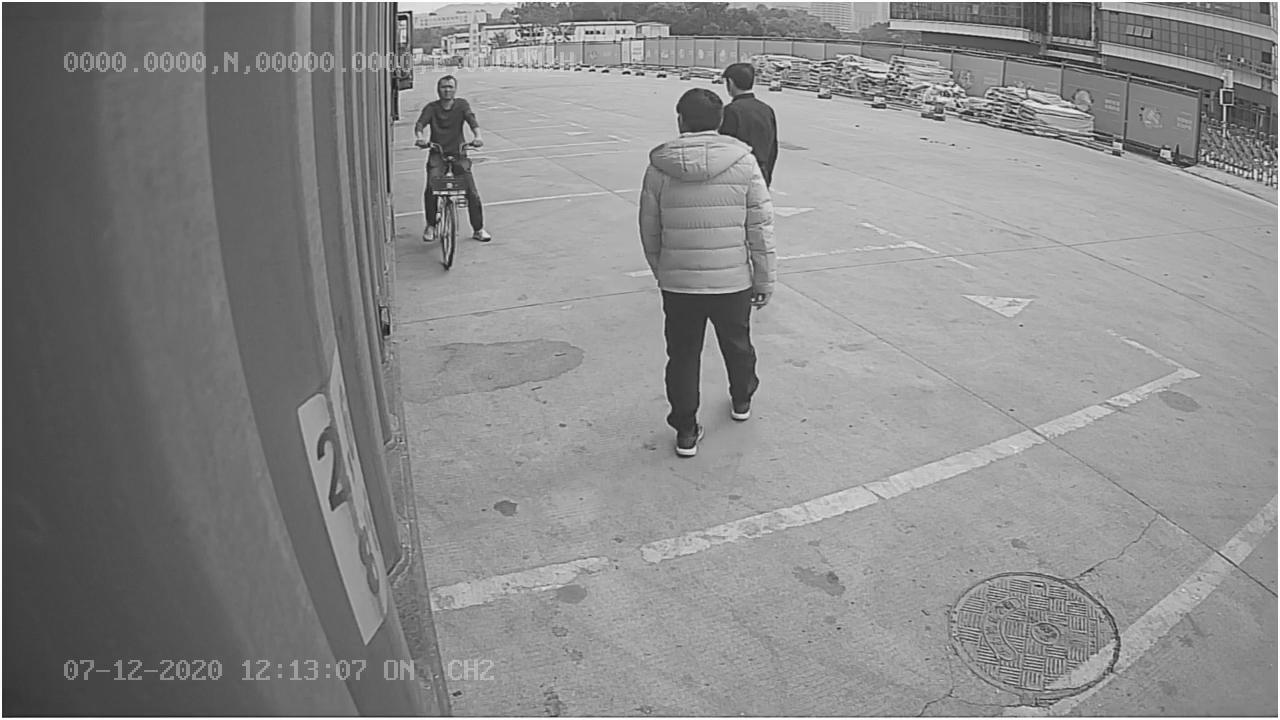person: (638, 87, 779, 462)
